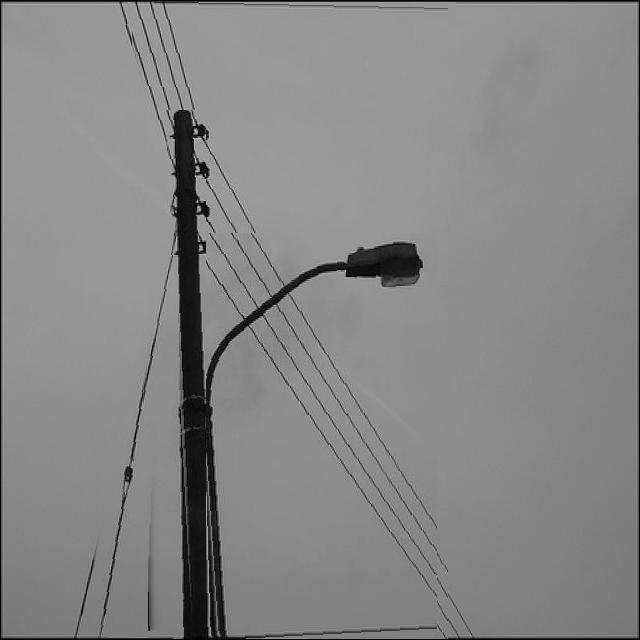pole: (170, 111, 206, 639)
wire: (131, 1, 448, 630), (149, 3, 443, 615), (162, 5, 435, 635), (190, 233, 437, 611), (94, 232, 171, 638), (119, 2, 168, 172)
